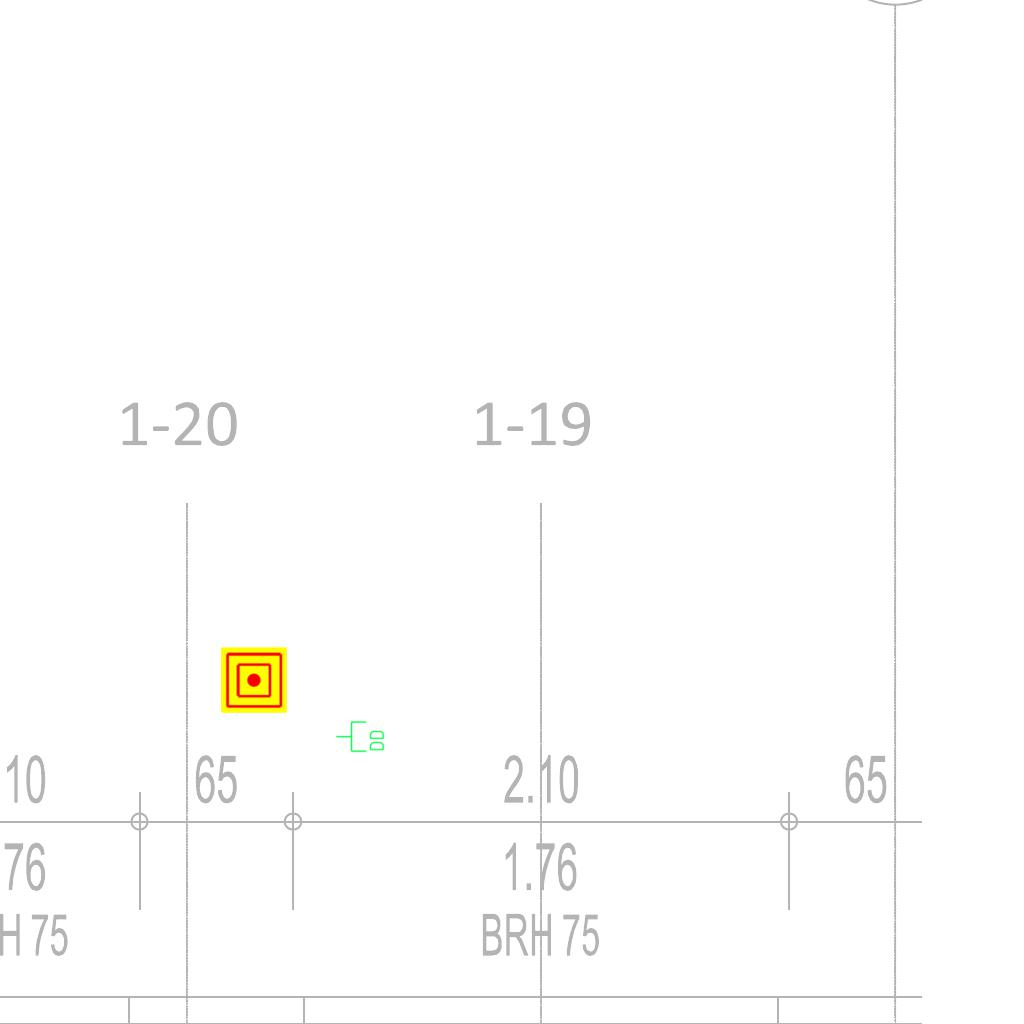Datenanschluss_zweifach: (335, 720, 386, 754)
NAM-Nichtautomatischer_Melder: (221, 647, 287, 713)
